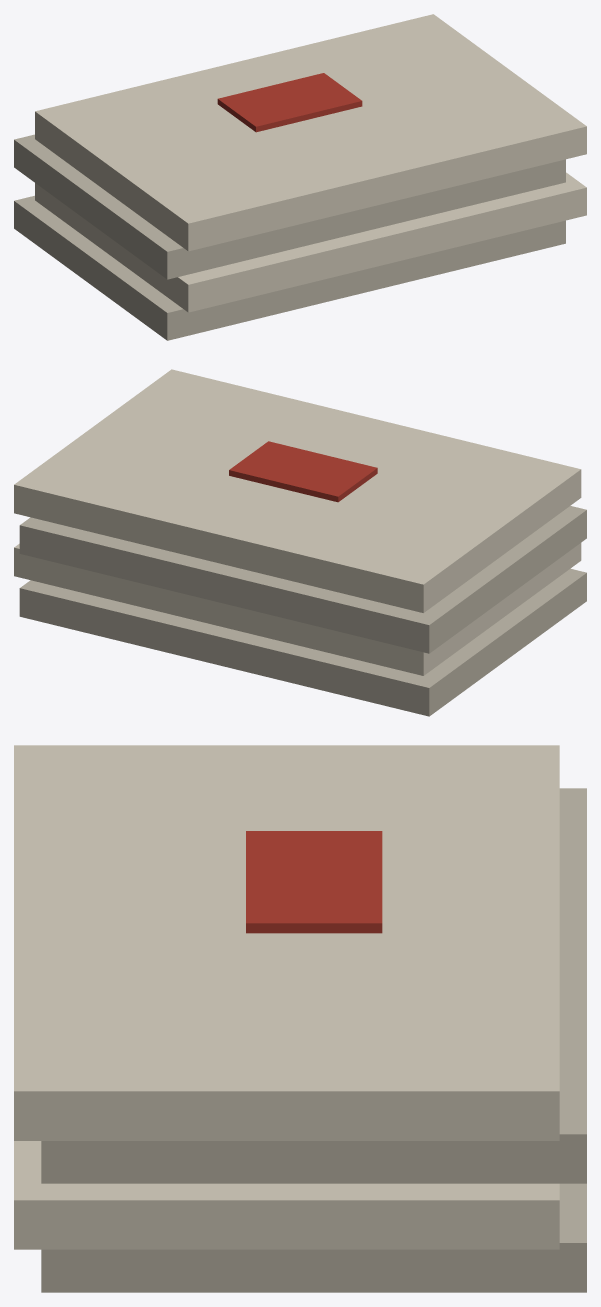
The model's file is envelopes.glb.
3 views of the same model, one above another, from view 1: azimuth 30°, elevation 25°; view 2: azimuth 150°, elevation 25°; view 3: azimuth 270°, elevation 25° (orthographic). The views are drawn at different scales.
Parts seen in each view (by area): view 1: body; view 2: body; view 3: body.
Part boxes in pixels (x1,y1,x2,y2): body: [14, 14, 586, 340]; body: [14, 369, 586, 716]; body: [14, 745, 586, 1292].
Size of the model in its own units: 0.31 by 0.098 by 0.21.
